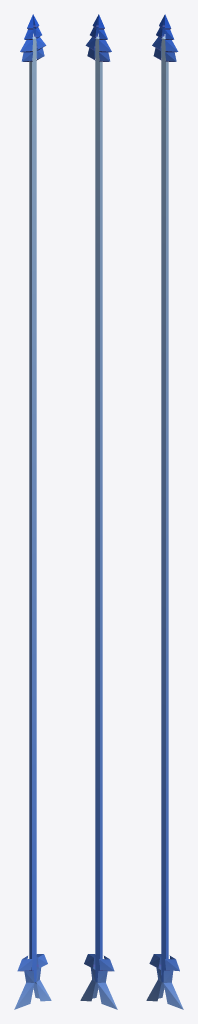
File: Arrow_Ice.fbx
The picture shows the model from 3 angles, left to right: view 1: azimuth 30°, elevation 25°; view 2: azimuth 150°, elevation 25°; view 3: azimuth 330°, elevation 25°; orthographic projection.
Visible parts, largest first — view 1: Arrow_Ice; view 2: Arrow_Ice; view 3: Arrow_Ice.
Boxes of the visible parts, left/top/right/bottom form: Arrow_Ice: left=14, top=14, right=51, bottom=1009; Arrow_Ice: left=80, top=14, right=117, bottom=1009; Arrow_Ice: left=146, top=14, right=183, bottom=1009.
Size of the model in its own units: 13.95 by 350 by 3.12.
